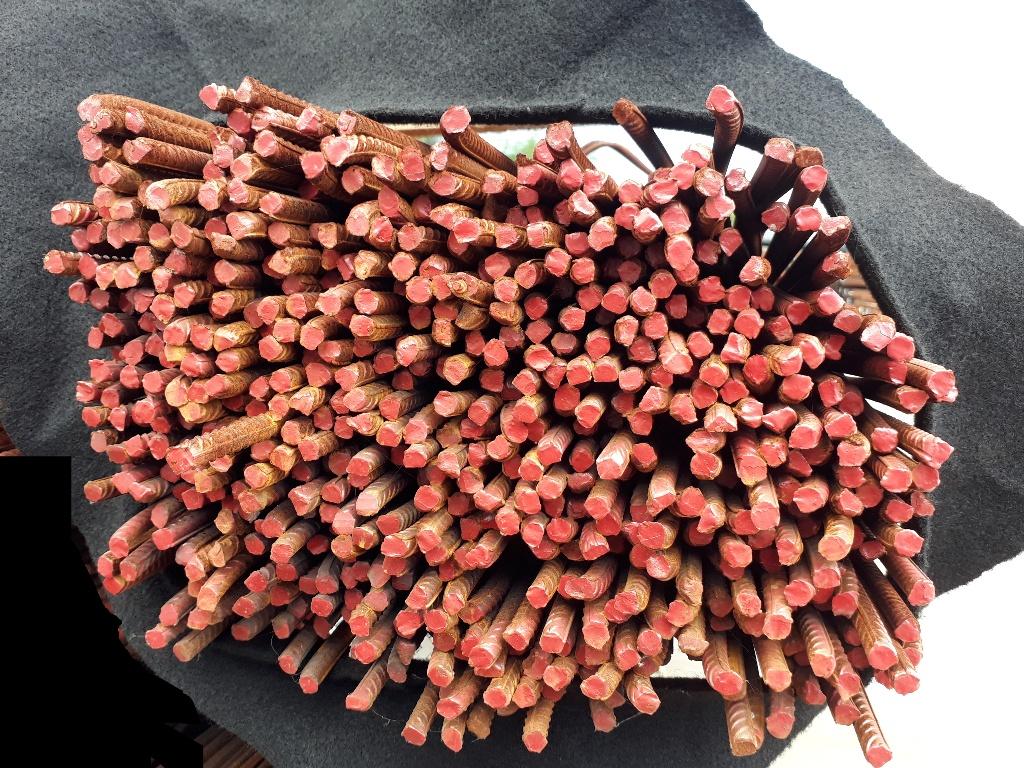dipstick: (396, 145, 426, 181), (861, 319, 893, 351), (720, 331, 750, 365), (638, 384, 672, 412), (739, 455, 768, 487), (707, 84, 740, 112), (694, 168, 725, 197), (739, 254, 772, 281), (823, 251, 853, 280), (751, 501, 780, 531), (762, 408, 796, 433), (689, 380, 719, 408), (441, 106, 471, 134), (666, 239, 693, 270), (636, 523, 667, 550), (685, 428, 717, 454), (825, 414, 858, 439), (927, 369, 956, 397), (669, 395, 697, 424), (429, 143, 457, 172), (122, 138, 151, 166), (869, 426, 899, 453), (908, 578, 935, 608), (543, 665, 573, 692), (681, 142, 712, 168), (454, 303, 485, 329), (764, 138, 796, 163), (165, 447, 193, 475), (663, 207, 690, 236), (679, 487, 706, 516), (581, 623, 610, 650), (756, 441, 786, 467), (743, 355, 769, 385), (578, 170, 608, 196), (613, 315, 638, 346), (546, 120, 571, 151), (678, 634, 710, 658), (887, 335, 915, 362), (881, 466, 909, 493), (909, 489, 936, 517), (818, 534, 846, 561), (837, 488, 864, 516), (760, 205, 787, 233), (705, 308, 733, 335), (650, 272, 677, 300), (686, 330, 713, 358), (567, 192, 594, 220), (482, 338, 509, 366), (405, 275, 432, 303), (899, 388, 928, 414), (530, 533, 559, 559), (452, 218, 481, 244), (894, 531, 924, 556), (782, 375, 812, 400), (688, 452, 718, 477), (447, 273, 477, 298), (792, 489, 823, 513), (718, 380, 749, 404), (695, 238, 722, 265), (629, 286, 656, 313), (665, 601, 692, 628), (817, 288, 845, 314), (553, 385, 581, 411), (663, 349, 692, 374), (794, 146, 824, 170), (784, 582, 814, 606), (799, 339, 823, 369), (646, 491, 676, 515), (627, 338, 657, 362), (354, 249, 377, 280), (801, 166, 828, 192), (838, 440, 865, 466), (641, 313, 668, 339), (697, 506, 724, 532), (626, 408, 653, 434), (484, 252, 511, 278), (324, 140, 350, 167), (766, 713, 794, 738), (715, 669, 743, 694), (396, 223, 421, 251), (388, 256, 416, 281), (300, 152, 325, 180), (189, 323, 214, 351), (126, 287, 154, 312), (762, 615, 791, 639), (670, 162, 694, 191), (699, 363, 728, 387), (428, 172, 457, 196), (378, 185, 399, 218), (720, 228, 743, 258), (489, 301, 519, 324), (431, 317, 453, 348), (631, 443, 657, 469), (613, 590, 639, 616), (604, 597, 630, 623), (558, 159, 584, 185), (541, 363, 567, 389), (414, 485, 440, 511), (305, 362, 331, 388), (787, 452, 812, 479), (726, 541, 753, 566), (581, 675, 608, 700), (492, 279, 519, 304), (456, 468, 483, 493), (213, 259, 238, 286), (892, 672, 920, 696), (739, 400, 763, 428), (650, 179, 678, 203), (169, 219, 193, 247), (198, 179, 219, 211), (833, 310, 862, 333), (833, 702, 862, 725), (776, 538, 799, 567), (586, 228, 615, 251), (419, 254, 448, 277), (122, 105, 145, 134), (914, 463, 939, 489), (831, 592, 857, 617), (856, 483, 882, 508), (786, 301, 812, 326), (724, 167, 750, 192), (726, 286, 751, 312), (759, 548, 784, 574), (734, 508, 759, 534), (699, 276, 724, 302), (708, 592, 733, 618), (545, 251, 570, 277), (521, 656, 547, 681), (402, 419, 428, 444), (353, 288, 378, 314), (210, 291, 235, 317), (150, 297, 175, 323), (789, 425, 816, 449), (584, 337, 611, 361), (635, 692, 662, 716), (869, 645, 897, 668), (865, 745, 893, 768), (818, 380, 841, 408), (526, 348, 554, 371), (331, 535, 359, 558), (886, 500, 915, 522), (746, 527, 775, 549), (705, 197, 735, 218), (465, 327, 486, 357), (688, 521, 713, 546), (637, 631, 662, 656), (396, 611, 421, 636), (258, 336, 283, 361), (98, 313, 123, 338), (795, 208, 821, 232), (749, 286, 773, 312), (635, 209, 661, 233), (646, 553, 672, 577), (571, 258, 595, 284), (594, 513, 620, 537), (545, 519, 571, 543), (512, 683, 536, 709), (443, 360, 467, 386), (433, 391, 457, 417), (340, 168, 364, 194), (346, 210, 370, 236), (226, 108, 250, 134), (119, 340, 143, 366), (837, 672, 860, 699), (734, 593, 761, 616), (535, 443, 562, 466), (525, 321, 552, 344), (370, 216, 393, 243), (253, 131, 276, 158), (242, 301, 264, 329), (800, 442, 829, 463), (574, 642, 595, 671), (565, 579, 594, 600), (896, 619, 920, 644), (735, 314, 759, 339), (424, 609, 448, 634), (355, 492, 379, 517), (296, 107, 320, 132), (244, 465, 269, 489), (775, 481, 801, 504), (630, 545, 656, 568), (653, 616, 679, 639), (522, 522, 545, 548), (496, 510, 519, 536), (517, 458, 543, 481), (514, 264, 537, 290), (437, 453, 460, 479), (371, 153, 394, 179), (314, 292, 340, 315), (288, 393, 314, 416), (164, 248, 187, 274), (617, 368, 644, 390), (551, 333, 578, 355), (457, 602, 484, 624), (132, 245, 154, 272), (472, 490, 500, 511), (821, 215, 850, 235), (602, 290, 626, 314), (575, 404, 599, 428), (517, 162, 541, 186), (480, 369, 504, 393), (494, 224, 518, 248), (810, 654, 835, 677), (617, 261, 642, 284), (743, 612, 766, 637), (561, 308, 586, 331), (523, 731, 548, 754), (440, 727, 463, 752), (408, 305, 431, 330), (396, 342, 419, 367), (328, 452, 351, 477), (300, 327, 325, 350), (224, 215, 247, 240), (146, 186, 171, 209), (765, 670, 791, 692), (611, 98, 633, 124), (564, 232, 590, 254), (628, 502, 654, 524), (569, 451, 595, 473), (502, 454, 524, 480), (436, 427, 462, 449), (403, 587, 429, 609), (417, 531, 443, 553), (431, 274, 453, 300), (286, 293, 308, 319), (258, 299, 280, 325), (288, 489, 310, 515), (113, 268, 139, 290), (234, 74, 253, 104), (824, 333, 845, 360), (591, 363, 618, 384), (467, 647, 494, 668), (381, 536, 409, 556), (803, 681, 827, 704), (779, 353, 803, 376), (613, 205, 637, 228), (644, 242, 667, 266), (577, 287, 600, 311), (583, 497, 607, 520), (617, 648, 641, 671), (465, 545, 489, 568), (517, 491, 541, 514), (512, 373, 536, 396), (486, 435, 509, 459), (525, 297, 548, 321), (268, 250, 291, 274), (342, 387, 366, 410), (267, 222, 291, 245), (213, 509, 236, 533), (88, 359, 112, 382), (480, 172, 505, 194), (447, 231, 469, 256), (423, 545, 448, 567), (148, 436, 170, 461), (838, 466, 864, 487), (682, 579, 703, 605), (566, 472, 592, 493), (512, 403, 538, 424), (428, 209, 454, 230), (427, 666, 453, 687), (435, 698, 461, 719), (317, 223, 338, 249), (237, 492, 263, 513), (77, 253, 98, 279), (585, 645, 612, 665), (95, 264, 115, 291), (812, 569, 840, 588), (336, 253, 355, 281), (664, 296, 687, 319), (617, 234, 640, 257), (332, 512, 355, 535), (269, 370, 292, 393), (204, 217, 227, 240), (847, 645, 869, 669), (595, 459, 619, 481), (482, 686, 506, 708), (504, 421, 528, 443), (447, 492, 469, 516), (467, 718, 491, 740), (368, 564, 390, 588), (148, 223, 170, 247), (43, 251, 65, 275), (930, 438, 951, 463), (682, 305, 707, 326), (499, 327, 524, 348), (349, 315, 374, 336), (280, 420, 301, 445), (215, 353, 240, 374), (111, 473, 136, 494), (152, 267, 173, 292), (82, 136, 103, 161), (791, 519, 820, 537), (773, 315, 793, 341), (618, 182, 644, 202), (251, 106, 271, 132), (554, 199, 573, 226), (250, 441, 277, 460), (840, 392, 862, 415), (543, 496, 565, 519), (467, 404, 489, 427), (352, 528, 375, 550), (245, 570, 268, 592), (132, 401, 155, 423), (142, 370, 164, 393), (612, 390, 633, 414), (559, 538, 580, 562), (477, 510, 501, 531), (395, 641, 416, 665), (355, 641, 376, 665), (262, 256, 283, 280), (213, 144, 234, 168), (231, 597, 255, 618), (125, 434, 146, 458), (88, 113, 112, 134), (650, 366, 675, 386), (720, 559, 745, 579), (566, 365, 591, 385), (536, 480, 561, 500), (502, 631, 527, 651), (411, 195, 431, 220), (376, 515, 401, 535), (363, 591, 388, 611), (227, 178, 247, 203), (313, 406, 333, 431), (330, 389, 349, 415), (706, 614, 735, 631), (675, 260, 697, 282), (526, 587, 548, 609), (441, 593, 463, 615), (99, 163, 121, 185), (551, 278, 574, 299), (379, 398, 400, 421), (376, 426, 399, 447), (318, 341, 341, 362), (259, 192, 282, 213), (269, 450, 292, 471), (196, 588, 217, 611), (187, 576, 210, 597), (119, 366, 140, 389), (600, 410, 624, 430), (592, 714, 616, 734), (460, 419, 484, 439), (453, 545, 473, 569), (382, 556, 406, 576), (163, 326, 187, 346), (633, 658, 661, 675), (401, 727, 426, 746), (347, 413, 372, 432), (198, 86, 217, 111), (76, 102, 101, 121), (433, 301, 459, 319), (107, 223, 125, 249), (886, 363, 908, 384), (566, 498, 588, 519), (499, 380, 521, 401), (348, 616, 370, 637), (273, 321, 295, 342), (292, 461, 313, 483), (268, 396, 289, 418), (151, 529, 173, 550), (174, 286, 195, 308), (320, 248, 340, 271), (334, 416, 354, 439), (372, 354, 395, 374), (335, 367, 358, 387), (269, 544, 292, 564), (186, 385, 209, 405), (526, 418, 545, 442), (347, 458, 371, 477), (526, 223, 544, 248), (542, 683, 567, 701), (345, 587, 363, 612), (230, 156, 248, 181), (208, 542, 226, 567), (108, 202, 133, 220), (581, 543, 607, 560), (538, 635, 564, 652), (319, 502, 340, 523), (307, 534, 328, 555), (262, 517, 283, 538), (248, 376, 269, 397), (182, 489, 203, 510), (106, 445, 127, 466), (144, 335, 165, 356), (89, 288, 110, 309), (69, 229, 90, 250), (517, 186, 539, 206), (337, 112, 357, 134), (319, 484, 341, 504), (202, 160, 224, 180), (297, 441, 319, 461), (288, 597, 308, 619), (159, 605, 179, 627), (174, 546, 196, 566), (75, 381, 95, 403), (179, 402, 201, 422), (166, 386, 188, 406), (180, 354, 200, 376), (119, 222, 141, 242), (557, 576, 576, 599), (459, 518, 478, 541), (437, 558, 456, 581), (150, 505, 169, 528), (102, 576, 125, 595), (128, 482, 151, 501), (107, 408, 126, 431), (860, 540, 884, 558), (468, 443, 486, 467), (211, 232, 236, 249), (118, 292, 135, 317), (604, 533, 624, 554), (473, 664, 503, 678), (392, 570, 413, 590), (227, 134, 248, 154), (269, 586, 290, 606), (244, 534, 264, 555), (109, 538, 130, 558), (171, 482, 192, 502), (81, 406, 101, 427), (207, 125, 227, 146), (433, 633, 455, 652), (392, 371, 414, 390), (311, 598, 333, 617), (245, 398, 267, 417), (186, 611, 208, 630), (138, 312, 157, 334), (782, 638, 805, 656), (536, 140, 554, 163), (340, 566, 358, 589), (316, 576, 339, 594), (86, 326, 104, 349), (848, 526, 865, 550), (403, 451, 427, 468), (391, 442, 407, 467), (345, 695, 370, 711), (194, 473, 214, 493), (138, 180, 154, 205), (275, 563, 296, 582), (160, 465, 181, 484), (77, 124, 96, 145), (602, 690, 624, 708), (320, 271, 342, 289), (313, 617, 331, 639), (96, 556, 114, 578), (85, 222, 103, 244), (408, 358, 431, 375), (221, 394, 244, 411), (208, 455, 231, 472), (346, 475, 372, 490), (427, 464, 446, 484), (387, 664, 407, 683), (352, 561, 371, 581), (336, 308, 356, 327), (172, 642, 192, 661), (146, 630, 166, 649), (353, 340, 374, 358), (298, 577, 319, 595), (272, 619, 290, 640), (203, 379, 224, 397), (119, 561, 137, 582), (151, 416, 172, 434), (100, 390, 121, 408), (157, 351, 178, 369), (571, 421, 596, 436), (505, 207, 527, 224), (181, 467, 204, 483), (222, 495, 241, 514), (83, 483, 102, 502), (496, 700, 520, 715), (302, 349, 322, 367), (277, 656, 297, 674), (90, 432, 108, 452), (94, 189, 114, 207), (812, 586, 833, 603), (214, 335, 236, 351), (904, 647, 922, 666), (876, 671, 894, 690), (844, 626, 862, 645), (282, 275, 300, 294), (299, 677, 319, 694), (185, 564, 205, 581), (69, 283, 86, 303), (159, 207, 180, 223), (786, 503, 808, 518), (165, 346, 187, 361), (49, 209, 71, 224), (461, 638, 478, 657), (231, 481, 248, 499), (231, 625, 250, 641), (89, 163, 103, 184), (526, 206, 543, 223), (558, 637, 572, 656), (240, 511, 262, 523), (604, 260, 619, 277), (394, 278, 408, 296), (207, 488, 225, 502), (655, 168, 672, 181), (434, 358, 443, 380), (795, 653, 809, 667), (416, 469, 427, 486), (98, 205, 111, 219), (310, 223, 320, 241), (341, 607, 352, 622), (254, 520, 262, 534)
